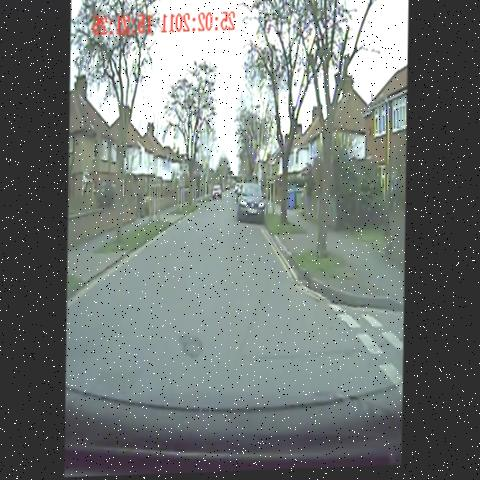pothole: (175, 328, 209, 369)
